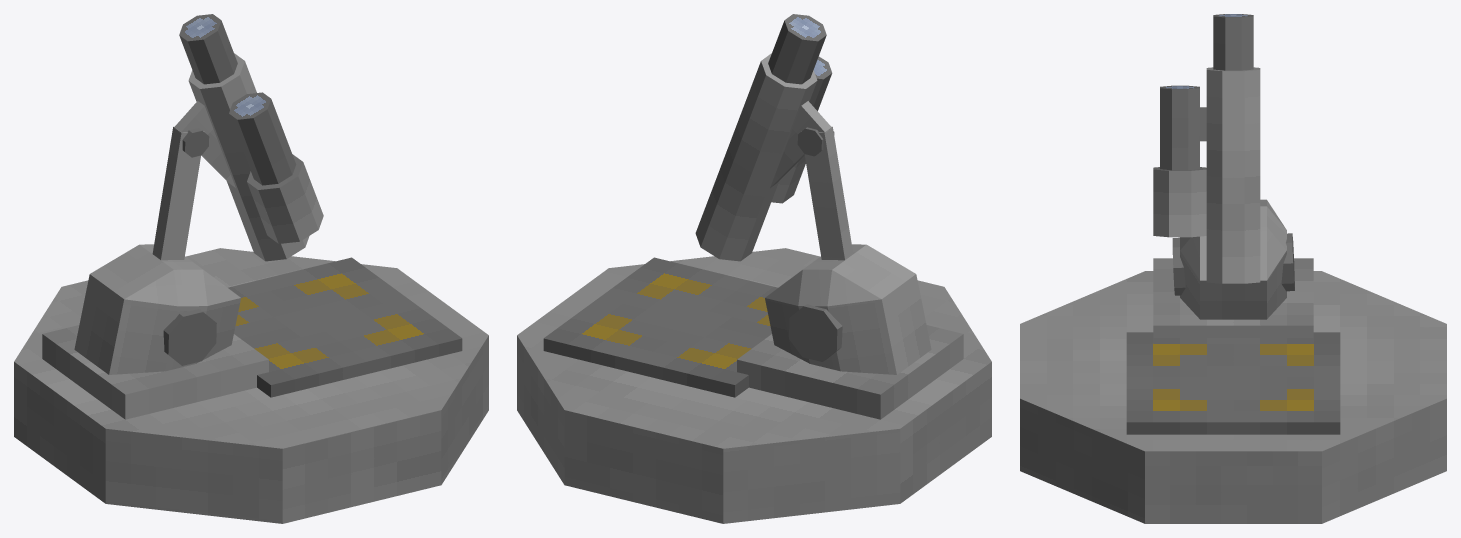
The model's file is optic_microscope.obj.
3 views of the same model, side by side, from view 1: azimuth 30°, elevation 25°; view 2: azimuth 150°, elevation 25°; view 3: azimuth 270°, elevation 25° (orthographic). The views are drawn at different scales.
Parts seen in each view (by area): view 1: mesh; view 2: mesh; view 3: mesh.
Boxes of the visible parts, box(x1,y1,x2,y2) form: mesh: box(14, 14, 488, 523); mesh: box(517, 14, 991, 523); mesh: box(1020, 14, 1446, 523).
Size of the model in its own units: 1 by 1.03 by 1.
